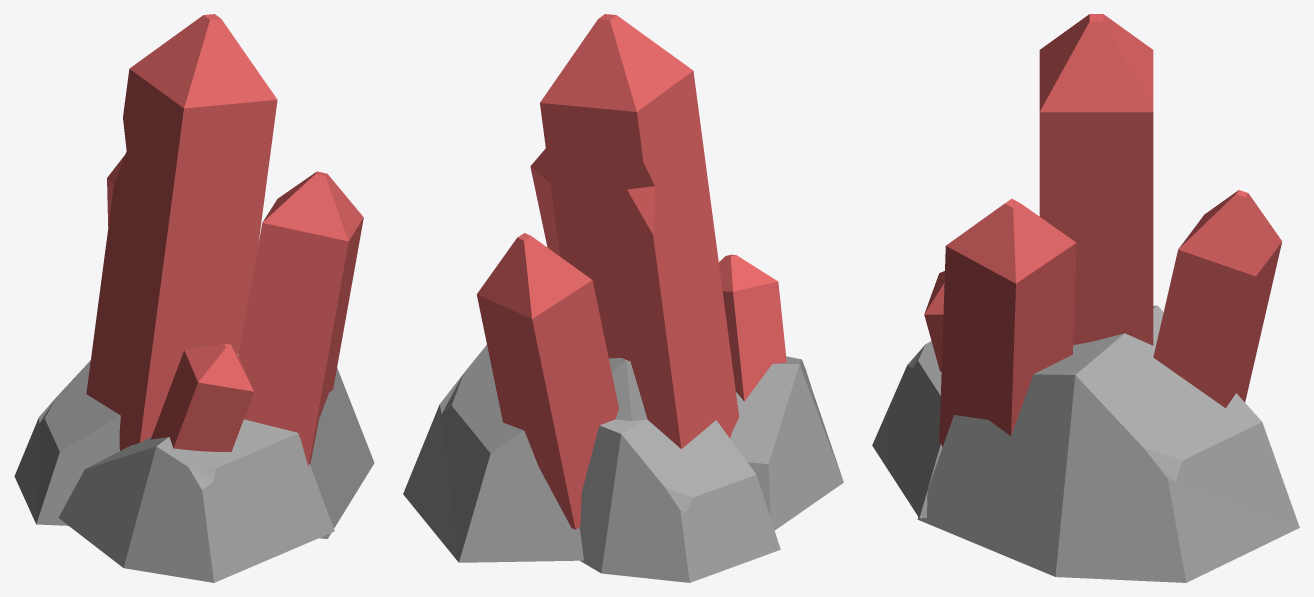
The model's file is SM_Cristaux.fbx.
The picture shows the model from 3 angles, left to right: view 1: azimuth 30°, elevation 25°; view 2: azimuth 150°, elevation 25°; view 3: azimuth 270°, elevation 25°; orthographic projection. The views are drawn at different scales.
Parts seen in each view (by area): view 1: Cristal; view 2: Cristal; view 3: Cristal.
Boxes of the visible parts, x1,y1,x2,y2 form: Cristal: [14, 14, 374, 582]; Cristal: [403, 14, 843, 582]; Cristal: [872, 14, 1299, 582].
Bounding box in the file's own units: 3.45 × 4.75 × 3.76.
